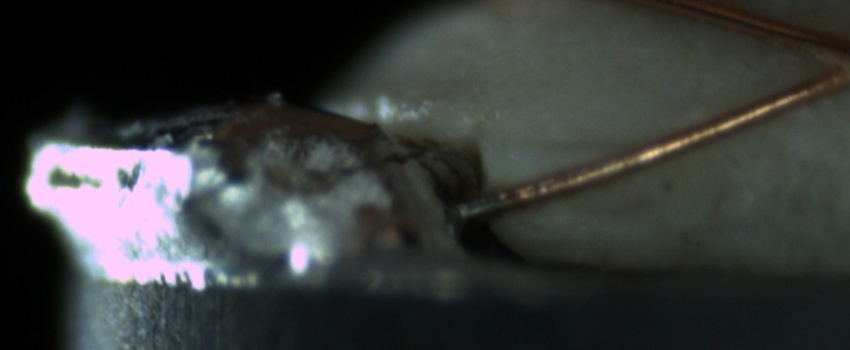CL: (796, 26, 849, 99)
DL: (503, 112, 639, 174)
TS: (456, 191, 499, 218)
